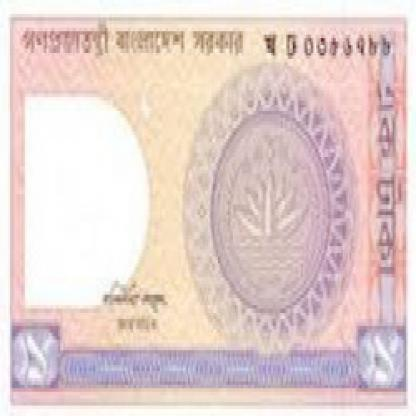One Taka: (374, 76, 404, 295), (12, 326, 60, 392), (359, 329, 406, 392)
